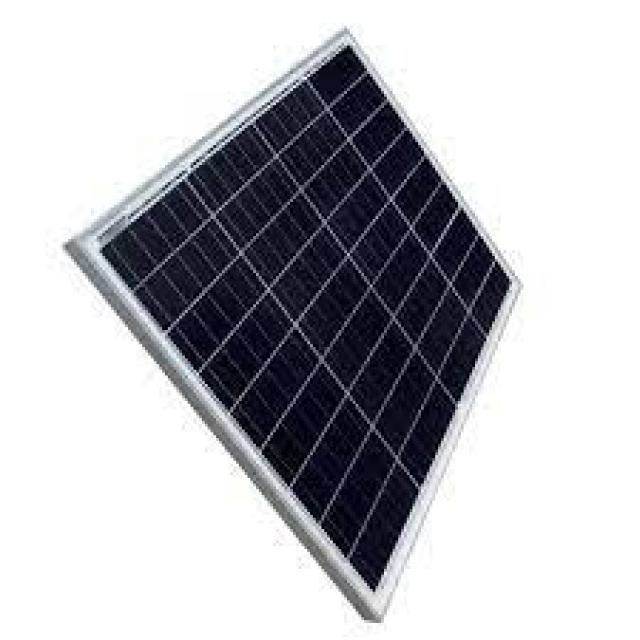no faulty: (83, 32, 520, 611)
